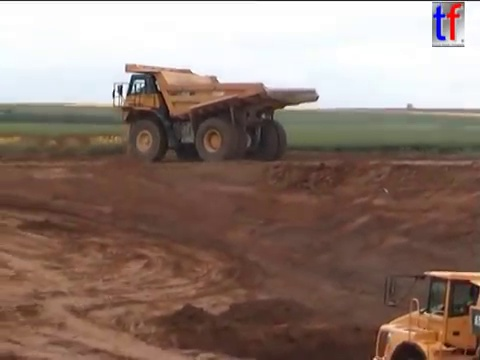truck: (110, 61, 322, 164), (367, 267, 480, 360)
